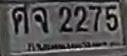2: (58, 5, 72, 32), (74, 5, 87, 32)
5: (104, 4, 118, 31)
7: (88, 5, 101, 31)
A08: (31, 6, 49, 33)
A38: (11, 4, 28, 34)
